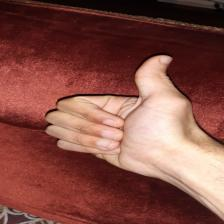five: (48, 55, 198, 171)
